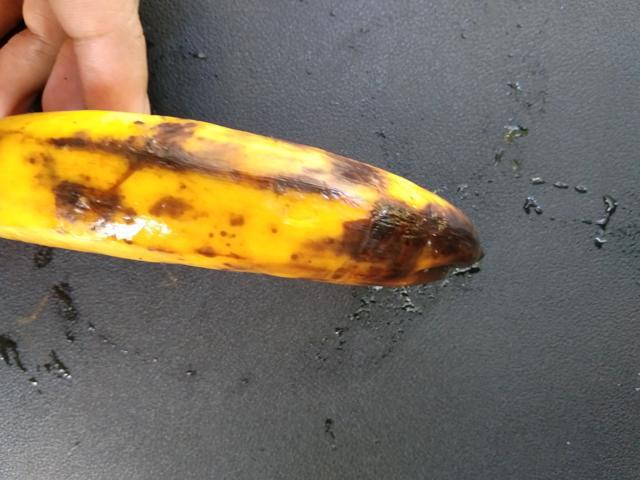overripe: (0, 66, 294, 299)
rotten: (216, 142, 503, 293)
